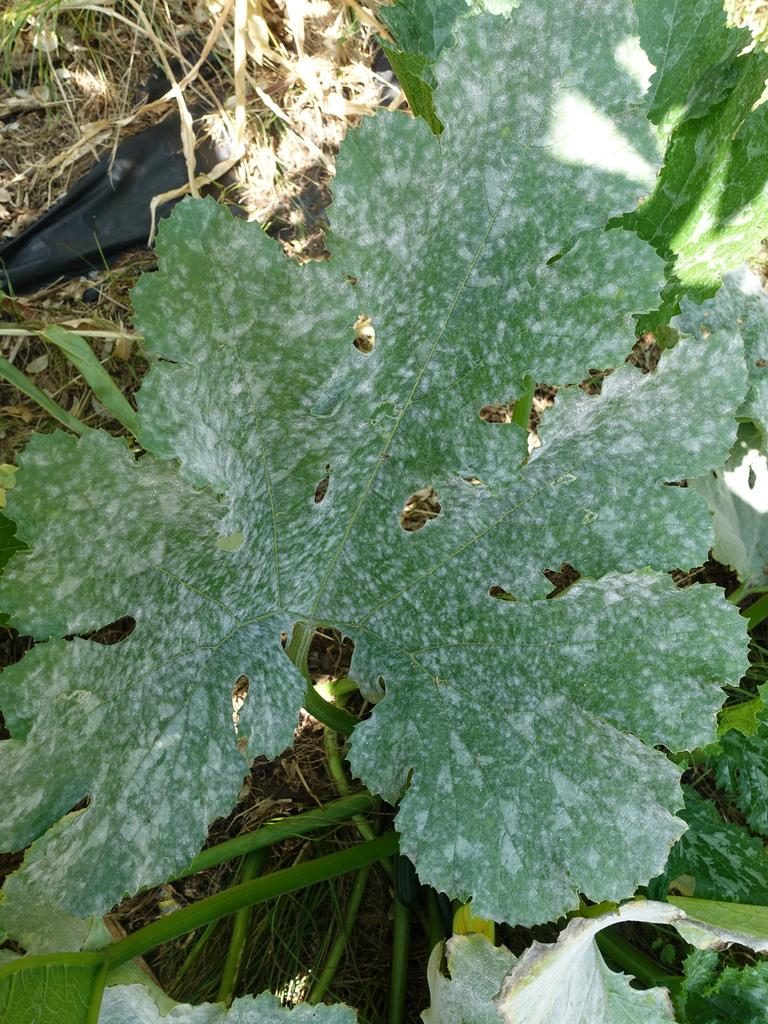Squash Powdery mildew leaf: (8, 1, 756, 958)
